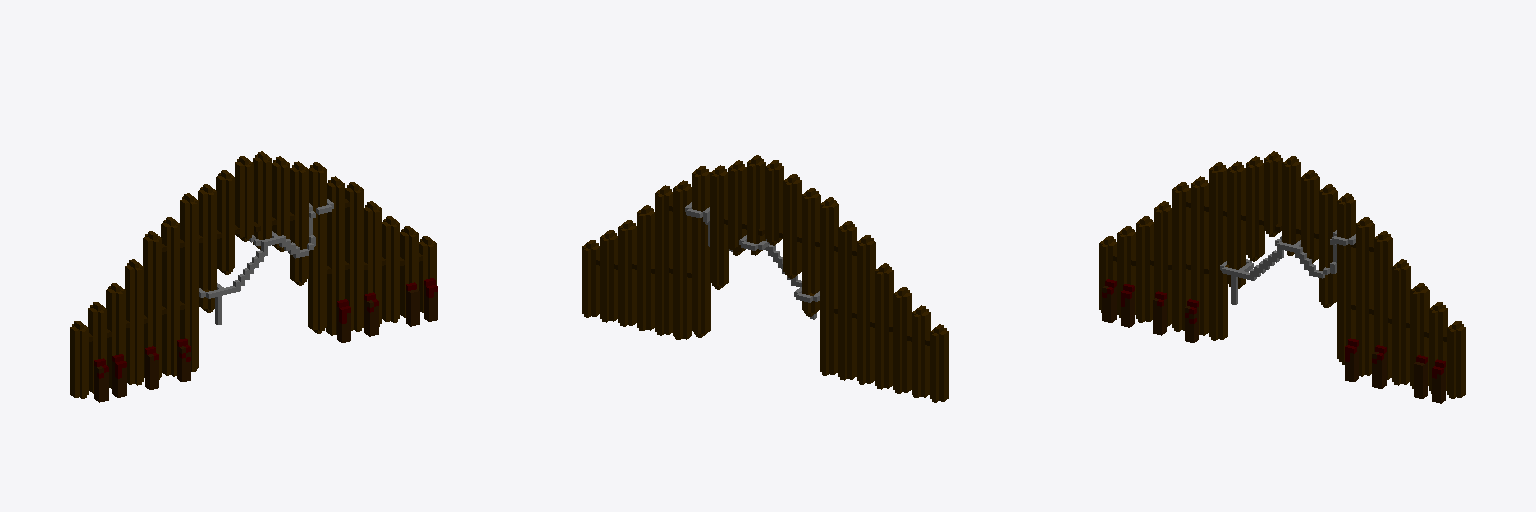
3 renders of one model, left to right at view 1: azimuth 30°, elevation 25°; view 2: azimuth 150°, elevation 25°; view 3: azimuth 330°, elevation 25°, orthographic.
Visible parts, largest first — view 1: orcGate; view 2: orcGate; view 3: orcGate.
Boxes of the visible parts, x1,y1,x2,y2 form: orcGate: [70, 151, 437, 402]; orcGate: [582, 155, 948, 402]; orcGate: [1099, 151, 1465, 403].
Bounding box in the file's own units: 79 × 41 × 8.
Materials: 1 (1 with a texture image).